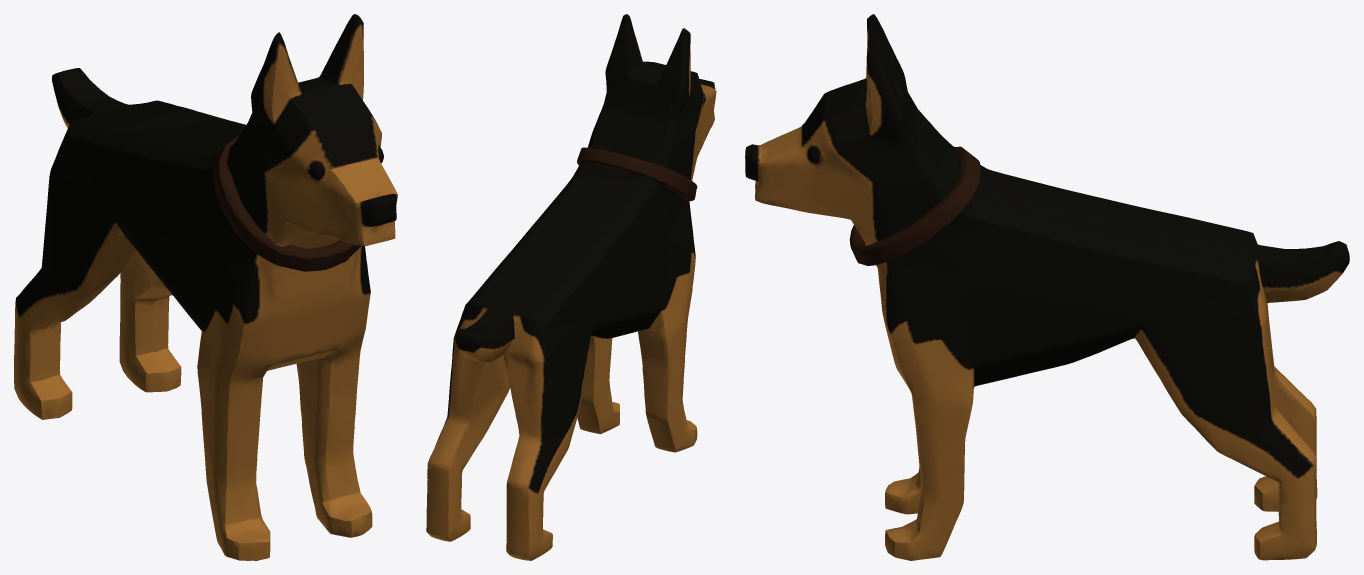
File: CHAR_06.glb
3 views of the same model, side by side, from view 1: azimuth 30°, elevation 25°; view 2: azimuth 150°, elevation 25°; view 3: azimuth 270°, elevation 25° (orthographic). The views are drawn at different scales.
Visible parts, largest first — view 1: world; view 2: world; view 3: world.
Boxes of the visible parts, x1,y1,x2,y2 form: world: [14, 14, 397, 560]; world: [426, 14, 716, 560]; world: [745, 14, 1349, 560].
Bounding box in the file's own units: 0.2572 × 0.915 × 1.
1 material, 1 textured.
